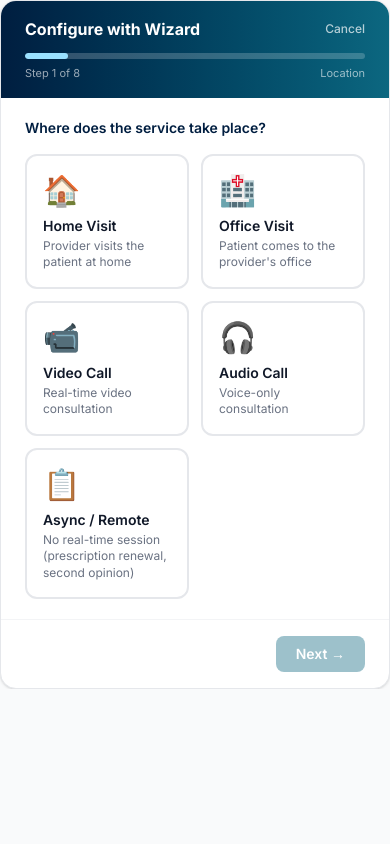
Test case: WorkflowWizard › 4. recurrence toggle — default is One-time, clicking Recurring shows frequency options
Click the text "Home Visit" at (80, 225), box [43,216,116,234]
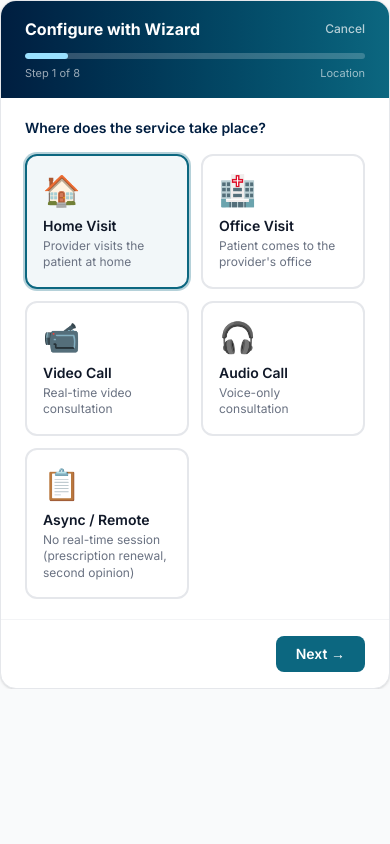
Click the button "Next →" at (320, 654), box [276,636,365,672]
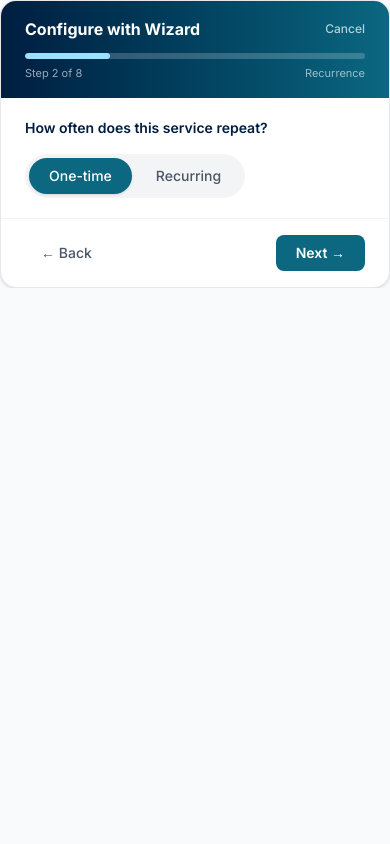
Expected: the text "Frequency" is not shown
Now the heading "How often does this service repeat?" is shown, box [25,118,268,136]
Click the button "Recurring" at (188, 176), box [136,158,241,194]
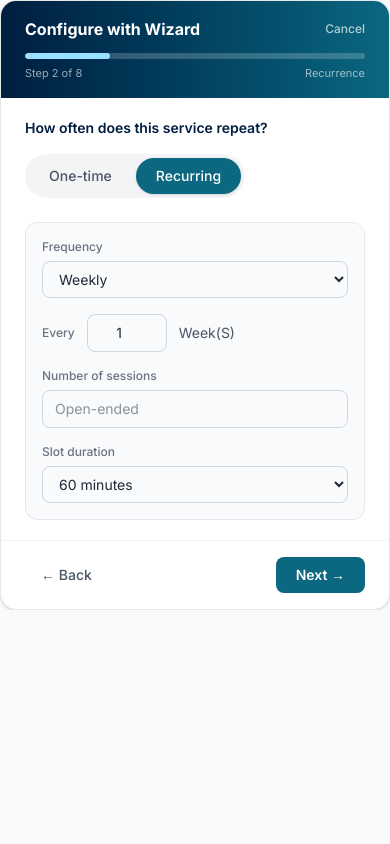
Now the text "Frequency" is shown, box [42,238,103,254]
